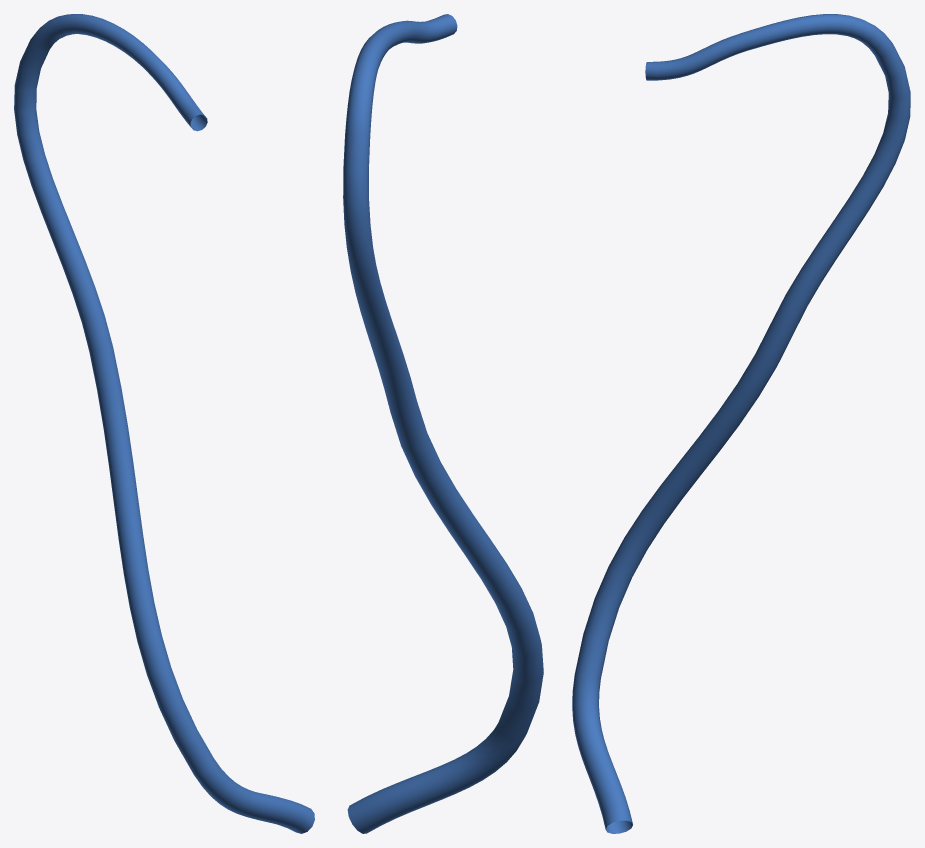
3 views of the same model, side by side, from view 1: azimuth 30°, elevation 25°; view 2: azimuth 150°, elevation 25°; view 3: azimuth 270°, elevation 25° (orthographic). The views are drawn at different scales.
Parts seen in each view (by area): view 1: 右侧旋肩胛静脉; view 2: 右侧旋肩胛静脉; view 3: 右侧旋肩胛静脉.
Part boxes in pixels (x1,y1,x2,y2): 右侧旋肩胛静脉: [14, 14, 314, 833]; 右侧旋肩胛静脉: [343, 14, 543, 833]; 右侧旋肩胛静脉: [572, 14, 910, 833].
Bounding box in the file's own units: 0.0179 × 0.0799 × 0.0319.
